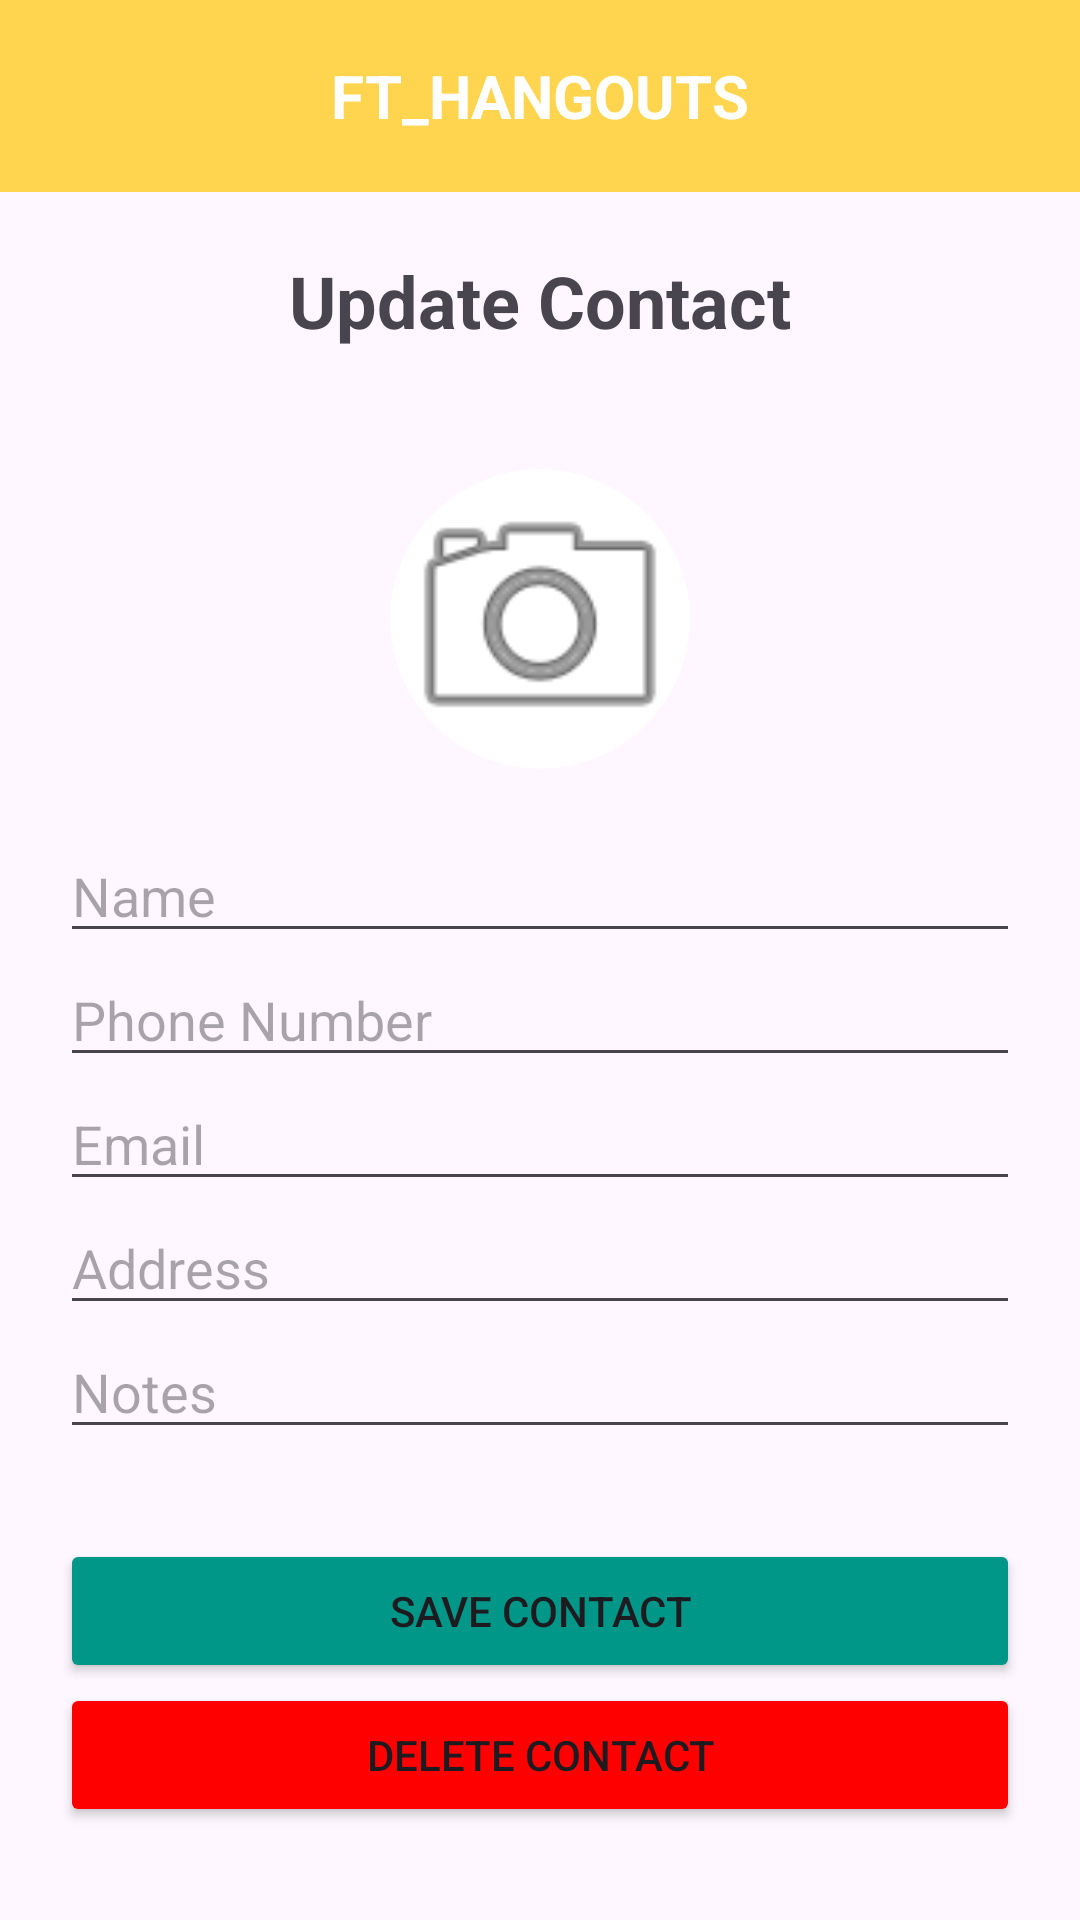

Icon bounding boxes for this 1080px×1920px phone screenshot, format (x1, y1, x2, y2):
Foto Profilo: (424, 522, 656, 707)
